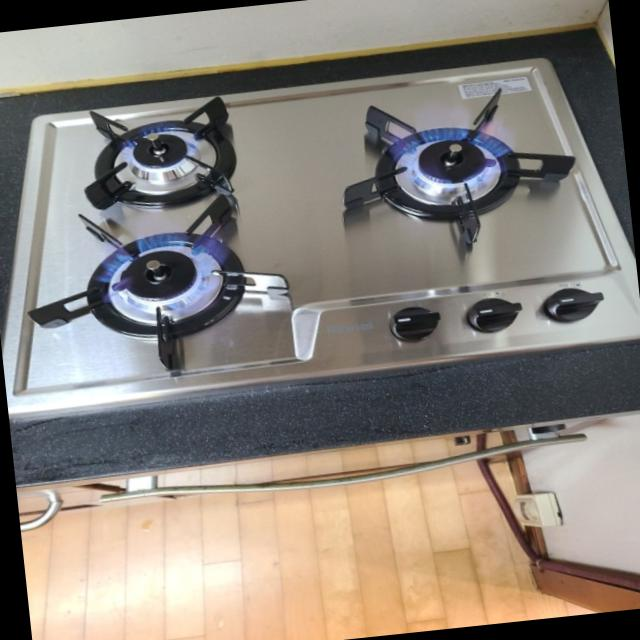knob_ON: (337, 89, 612, 269), (57, 208, 291, 349), (66, 89, 252, 229)
